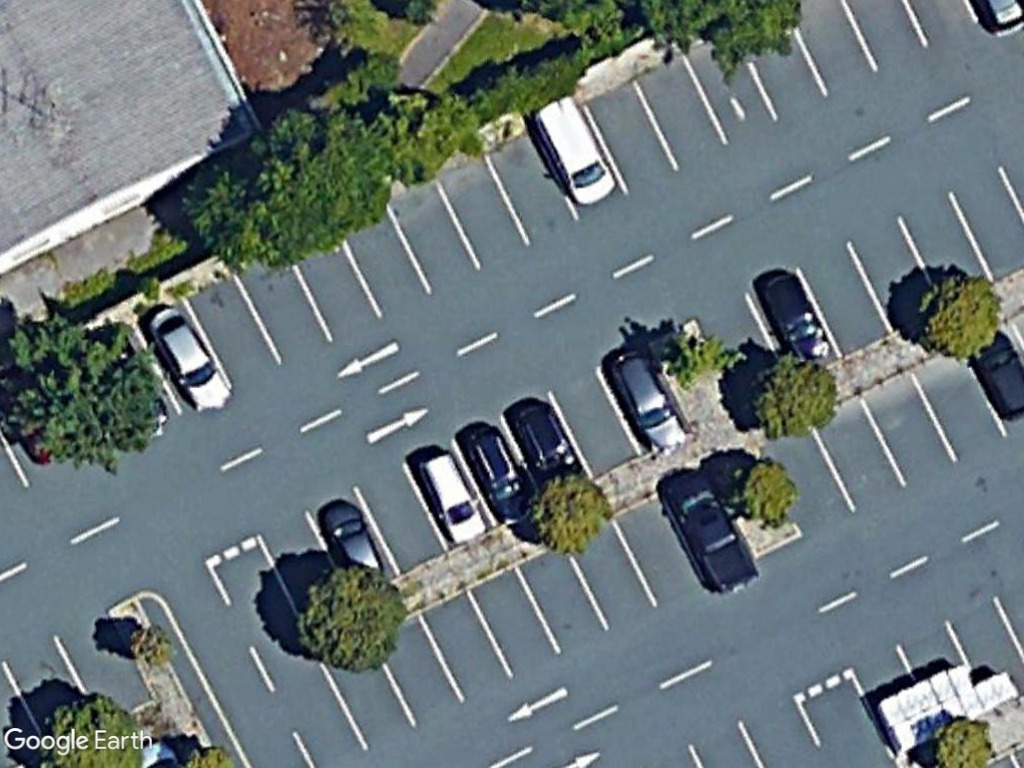car: (144, 299, 236, 419), (461, 419, 543, 535), (604, 344, 688, 455), (411, 448, 487, 550), (755, 268, 834, 366)
others: (657, 467, 759, 597)
van: (530, 93, 619, 213)
